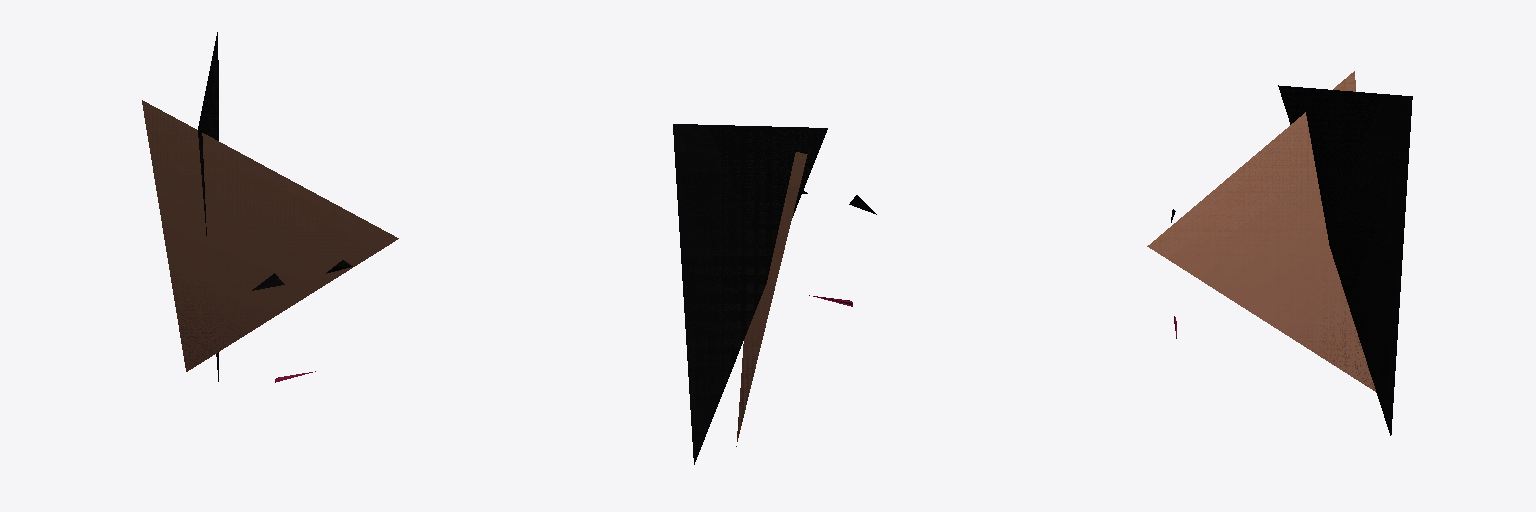
3 renders of one model, left to right at view 1: azimuth 30°, elevation 25°; view 2: azimuth 150°, elevation 25°; view 3: azimuth 270°, elevation 25°, orthographic.
Parts seen in each view (by area): view 1: DetachedHead_Untitled; view 2: DetachedHead_Untitled; view 3: DetachedHead_Untitled.
Part boxes in pixels (x1,y1,x2,y2): DetachedHead_Untitled: (142,32,398,382); DetachedHead_Untitled: (673,124,876,464); DetachedHead_Untitled: (1147,71,1412,435).
Bounding box in the file's own units: 0.3762 × 0.8105 × 0.5613.
Materials: 1 (1 with a texture image).